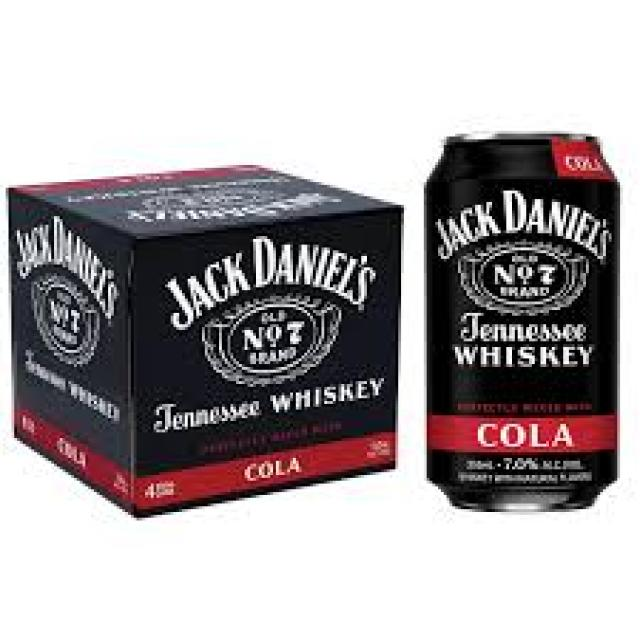Cans: (415, 120, 629, 520)
